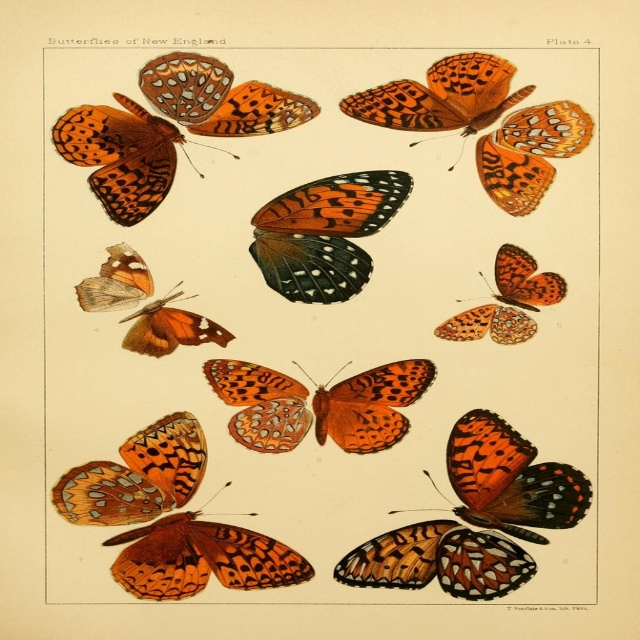Butterfly: (31, 404, 322, 614), (337, 426, 576, 608), (193, 347, 447, 461), (45, 90, 238, 238), (333, 42, 540, 174), (250, 165, 407, 320), (68, 230, 231, 365), (136, 40, 332, 145), (460, 89, 597, 220), (435, 234, 570, 352)
